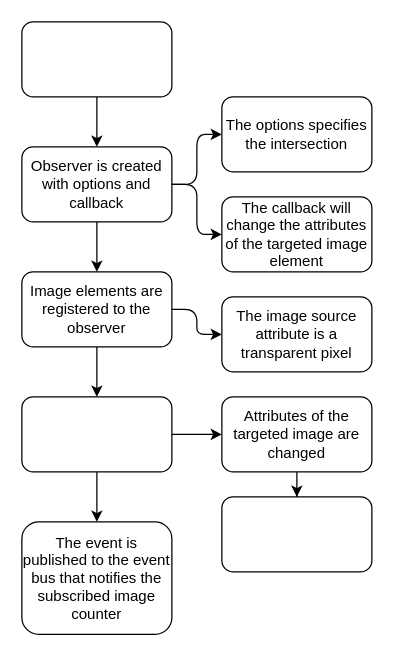
The diagram is 394 pixels wide and 656 high, and some of its shapes have lost their labels. Here are the shapes that lost their labels. From the top down, the centre of each, then its label:
At pixel 96 59: "App loads".
At pixel 96 434: "When an image element intersects, callback will fire".
At pixel 296 534: "Image source loads and animation animates opacity".
